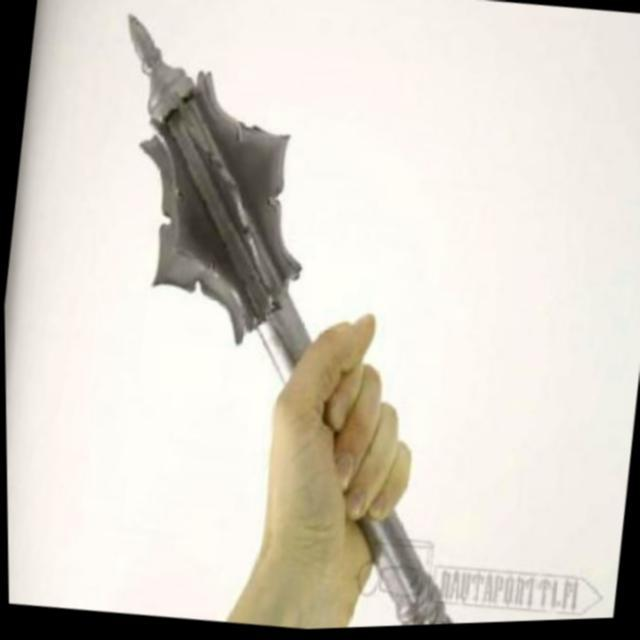weapon: (52, 0, 550, 639)
